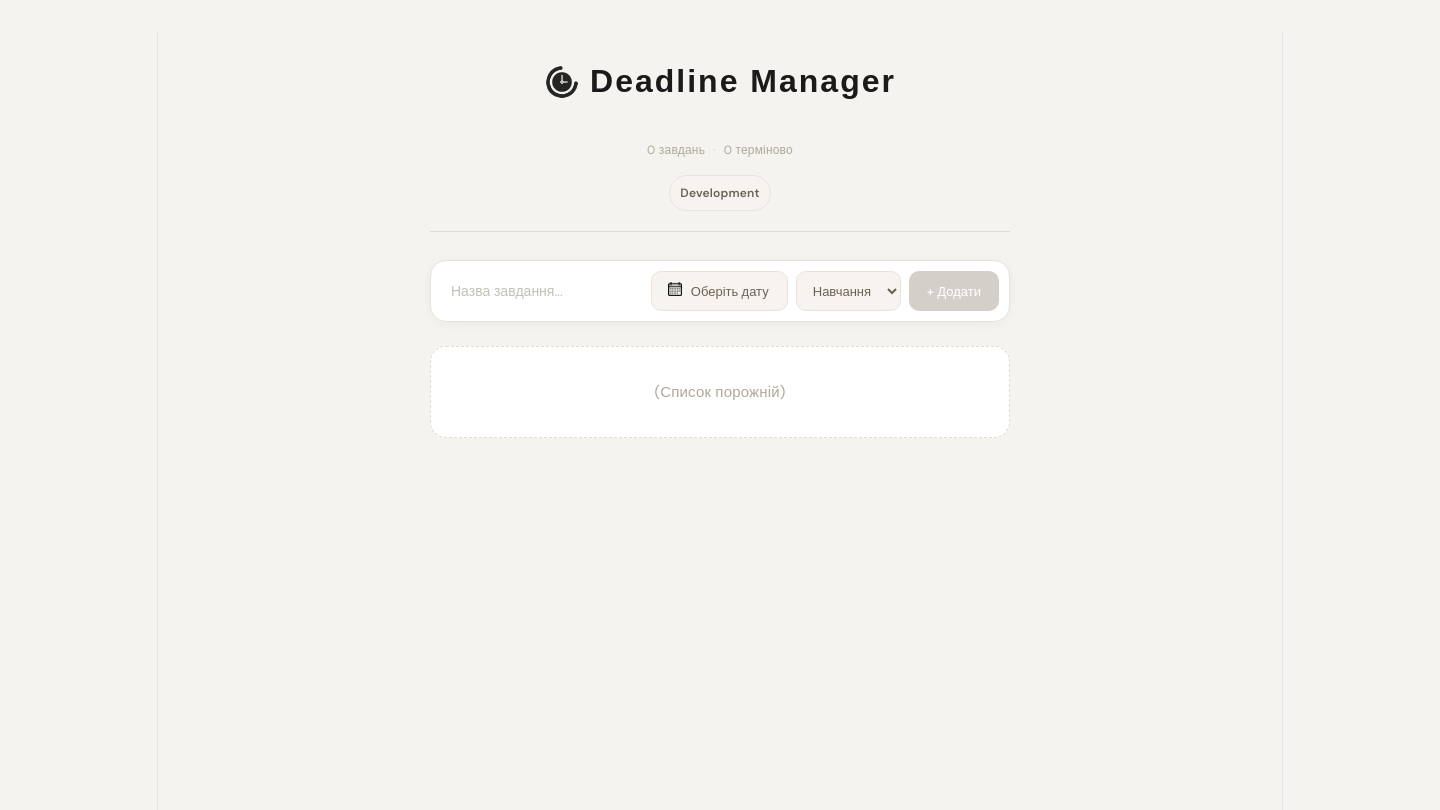
App › додає завдання через форму та показує його у списку
Type "Підготувати лабораторну №2" into the field with class "input-name" at point(542, 291), box [441,274,643,308]
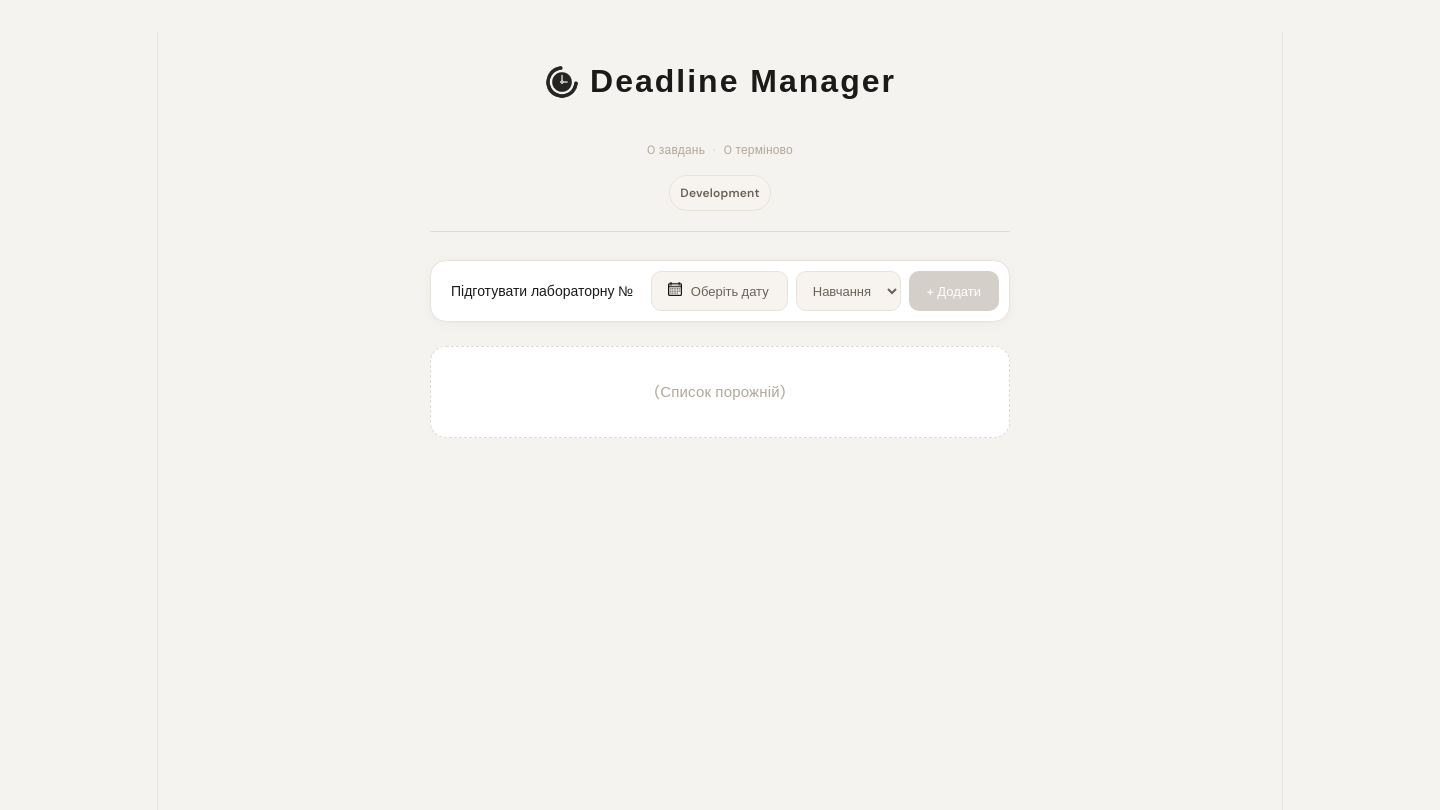
Type "2026-05-12" into the date field labelled "Оберіть дату" at point(719, 291), box [651,271,788,311]
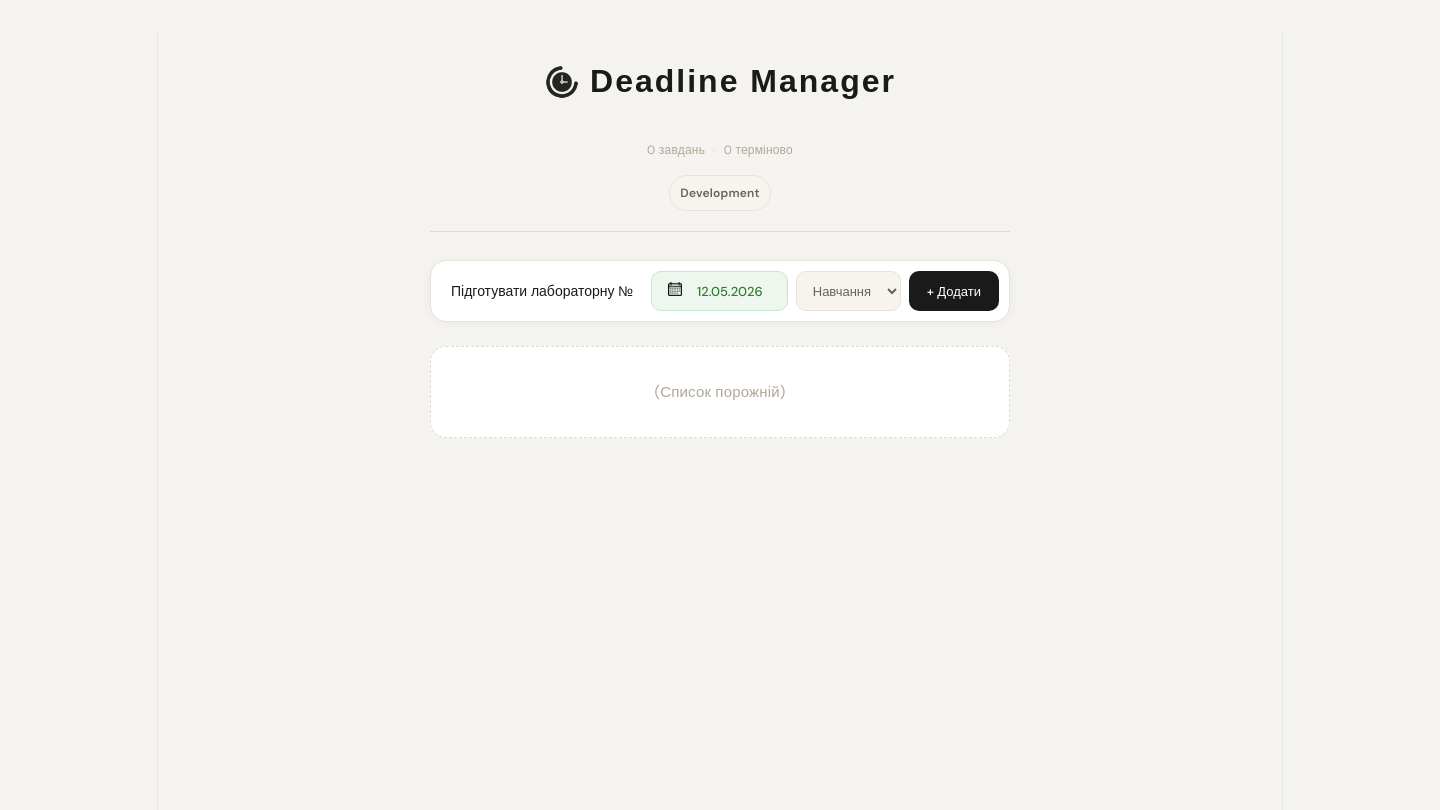
Select "Навчання" in the dropdown named "Категорія завдання" at point(848, 291), box [796,271,901,311]
Click the button with class "add-btn" at point(954, 291), box [909,271,999,311]
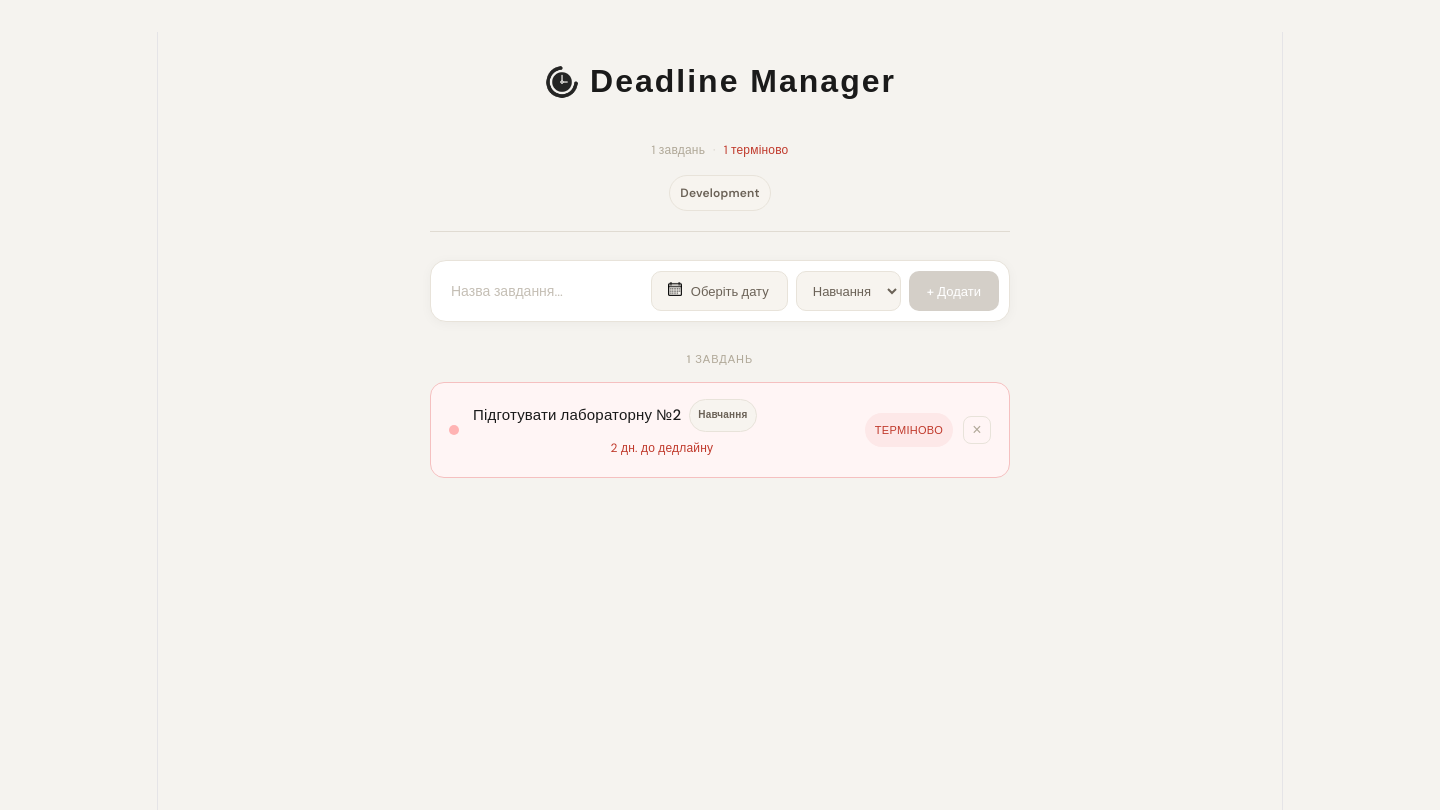
Result: the text "Підготувати лабораторну №2" is shown at [473,402,681,429]
Result: the text "Навчання" is shown at [689,400,757,432]
Result: the text "2 дн. до дедлайну" is shown at [611,440,713,456]
